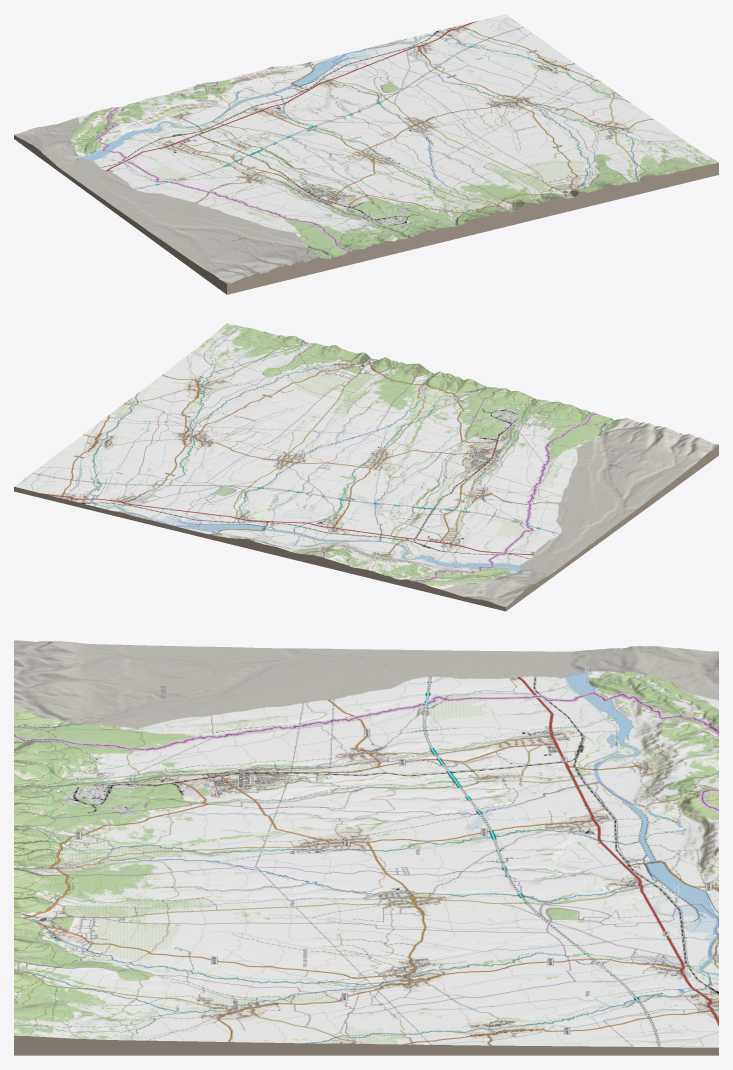
The picture shows the model from 3 angles, top to bottom: view 1: azimuth 30°, elevation 25°; view 2: azimuth 150°, elevation 25°; view 3: azimuth 270°, elevation 25°; orthographic projection. The views are drawn at different scales.
Visible parts, largest first — view 1: BV50-D1 Victoria; view 2: BV50-D1 Victoria; view 3: BV50-D1 Victoria.
Part boxes in pixels (<box>): BV50-D1 Victoria: <box>14,14,718,294</box>; BV50-D1 Victoria: <box>14,323,718,611</box>; BV50-D1 Victoria: <box>14,640,718,1055</box>.
Bounding box in the file's own units: 20000 × 733 × 15000.
4 materials, 1 textured.
